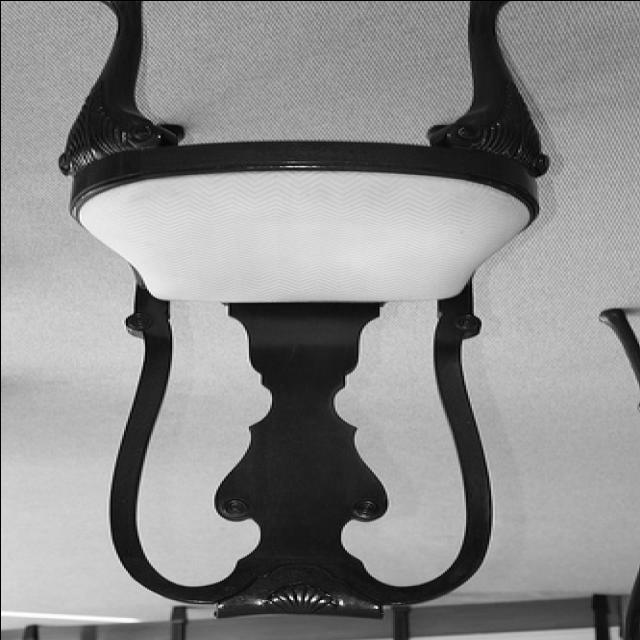chair: (50, 1, 550, 624)
